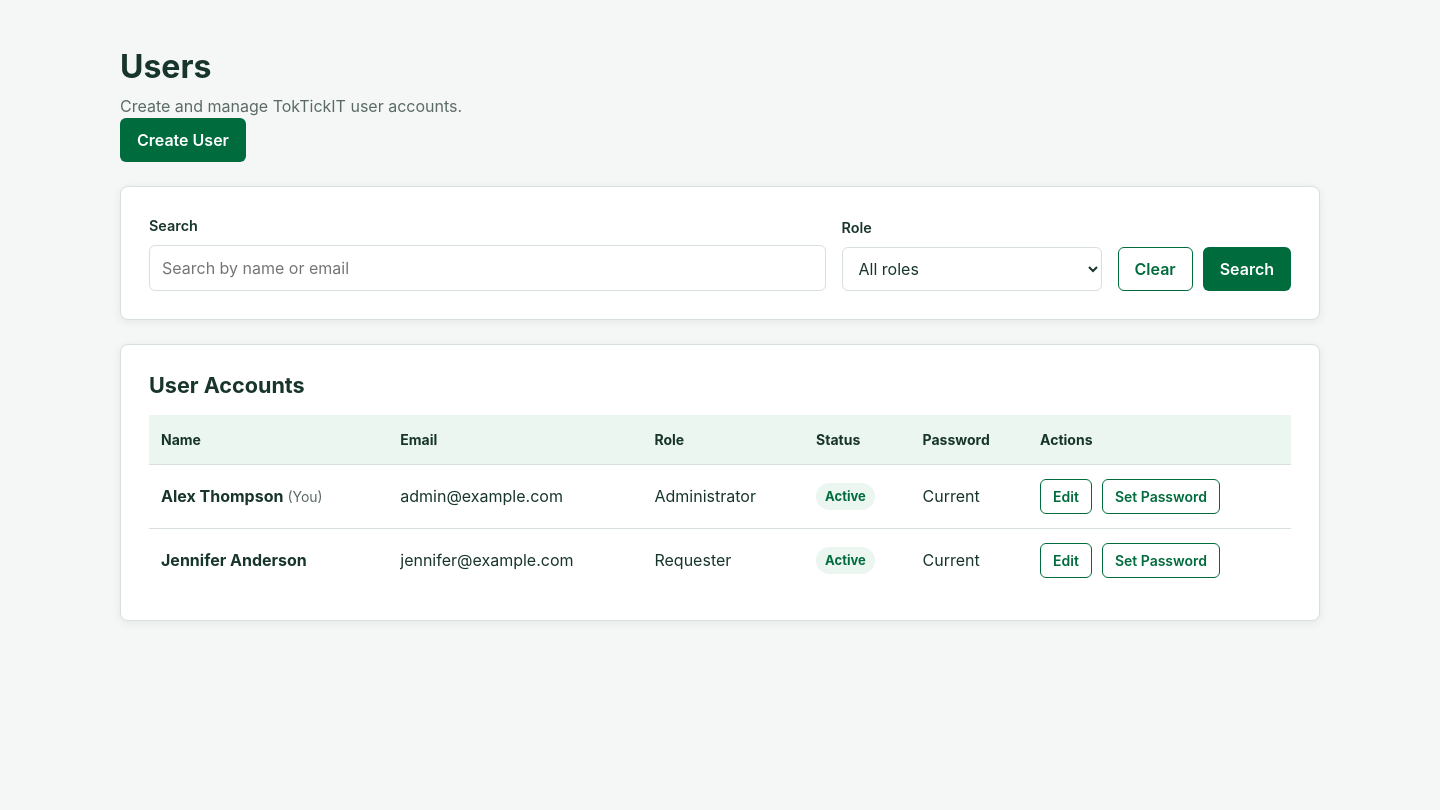
UserManagement › shows safe API error messages
Check: the text "Jennifer Anderson" is shown, box [161,550,307,570]
Click the button "Create User" at coordinates (183, 140), box [120,118,246,162]
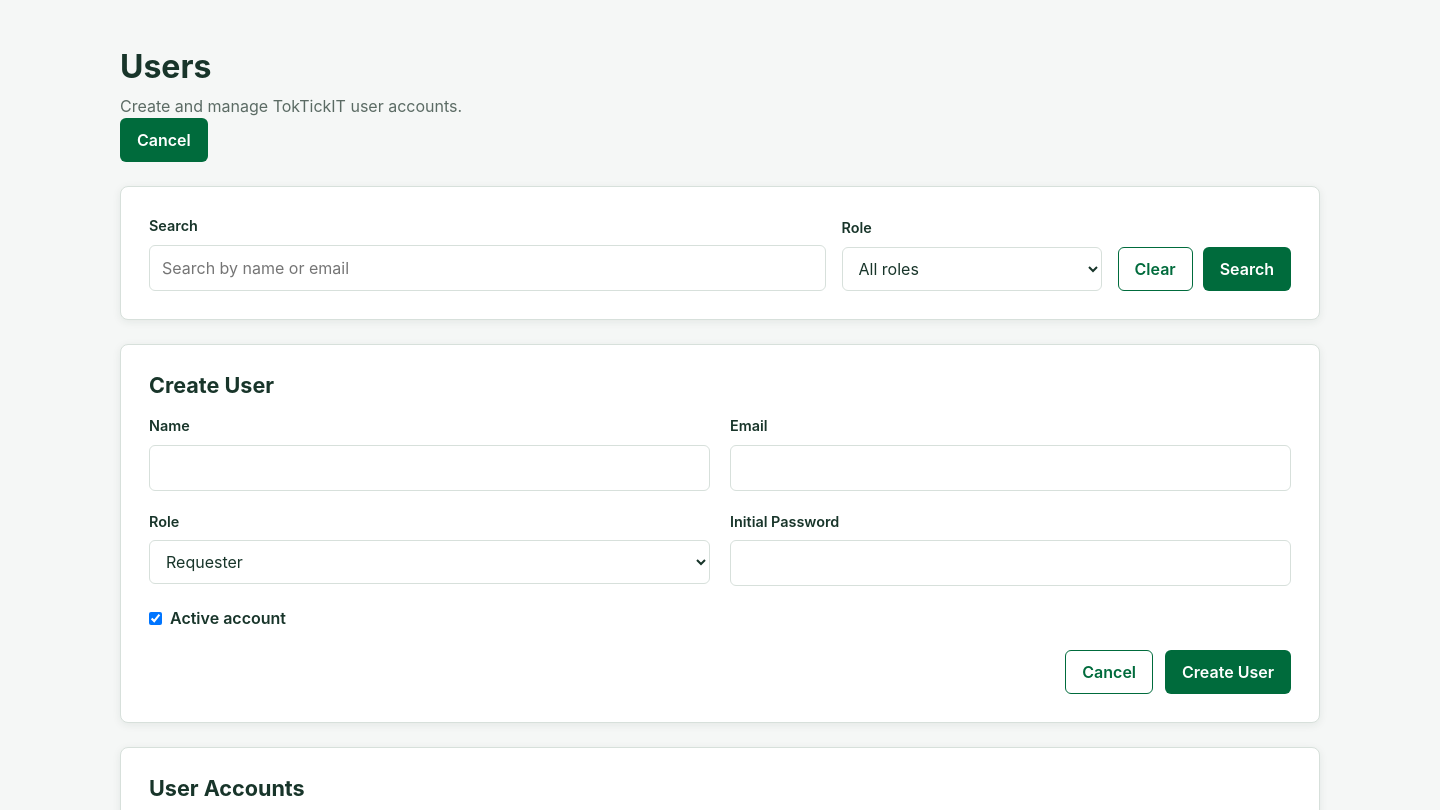
Type "Duplicate User" into the field labelled "Name" at coordinates (430, 468), box [149,444,710,490]
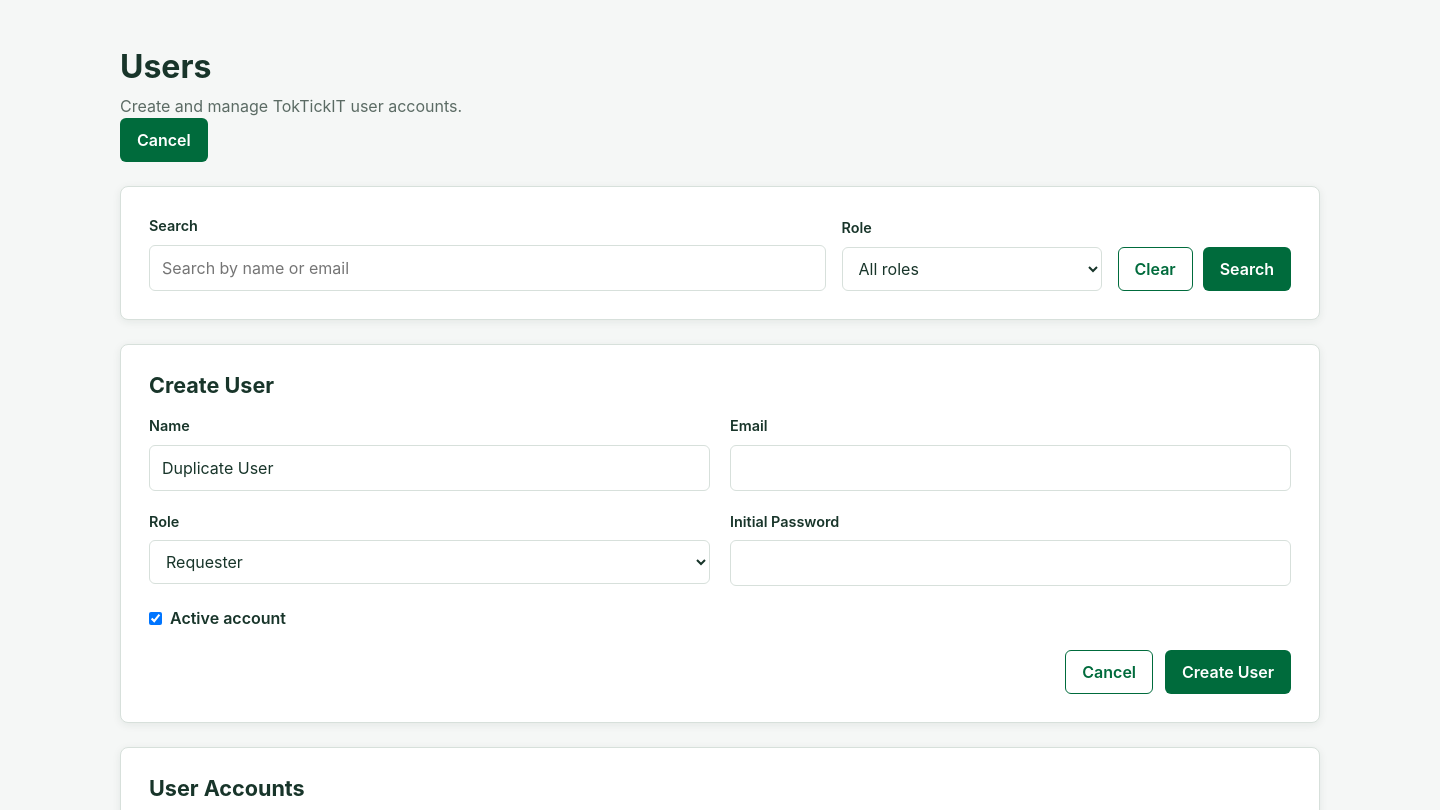
Type "admin@example.com" into the field labelled "Email" at coordinates (1010, 468), box [730,444,1291,490]
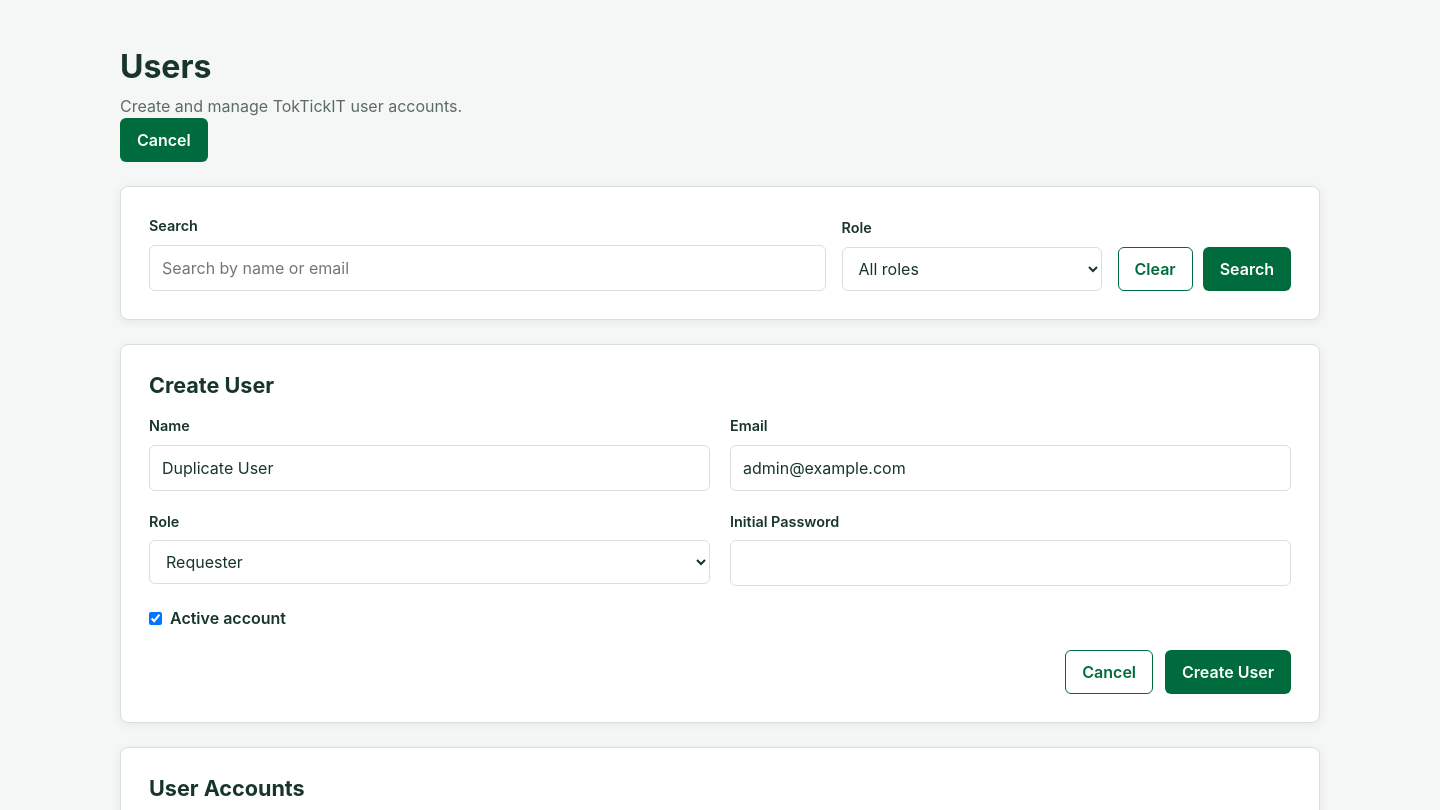
Type "Initial1!" into the password field labelled "Initial Password" at coordinates (1010, 563), box [730,540,1291,586]
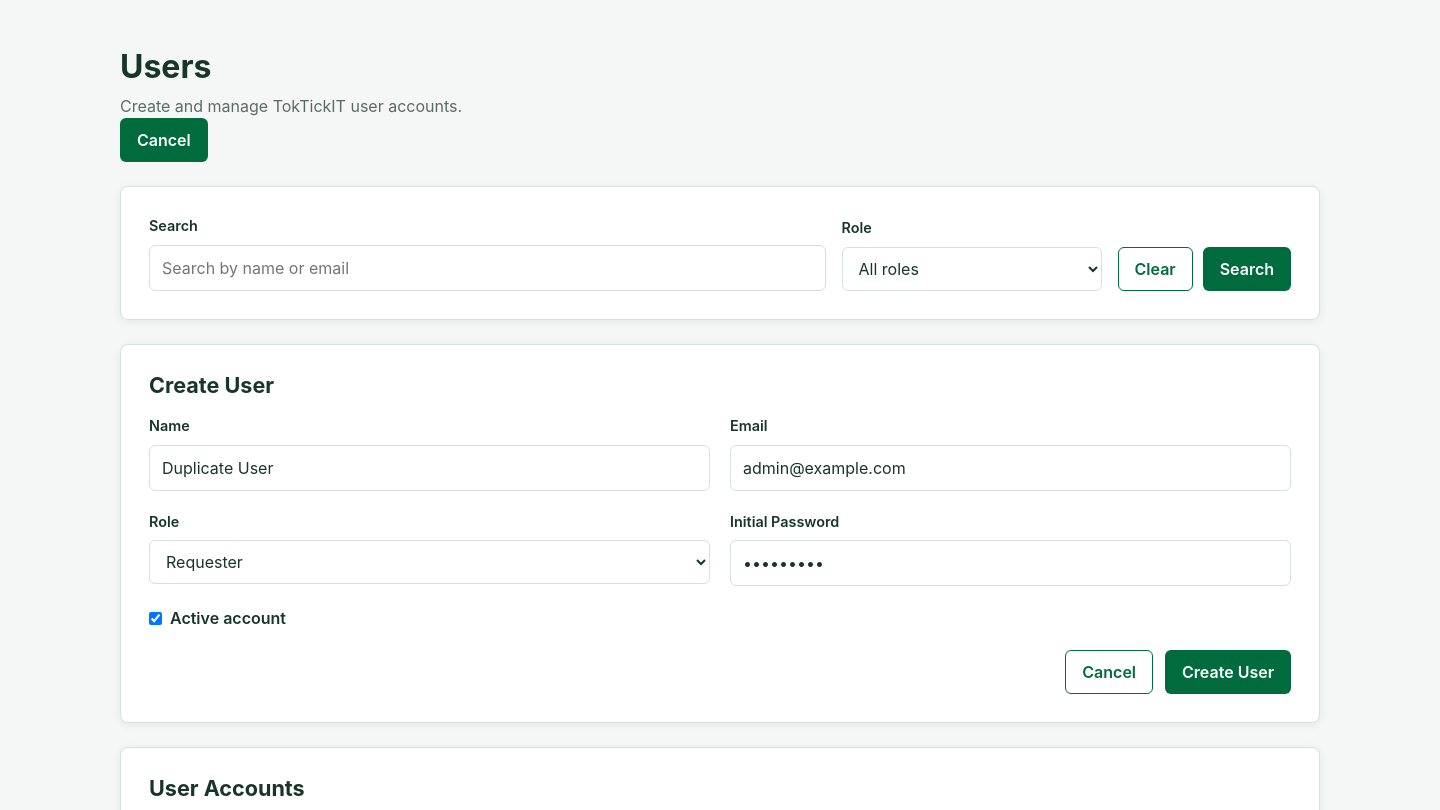
Click the button "Create User" at coordinates (1228, 672), box [1165,650,1291,694]
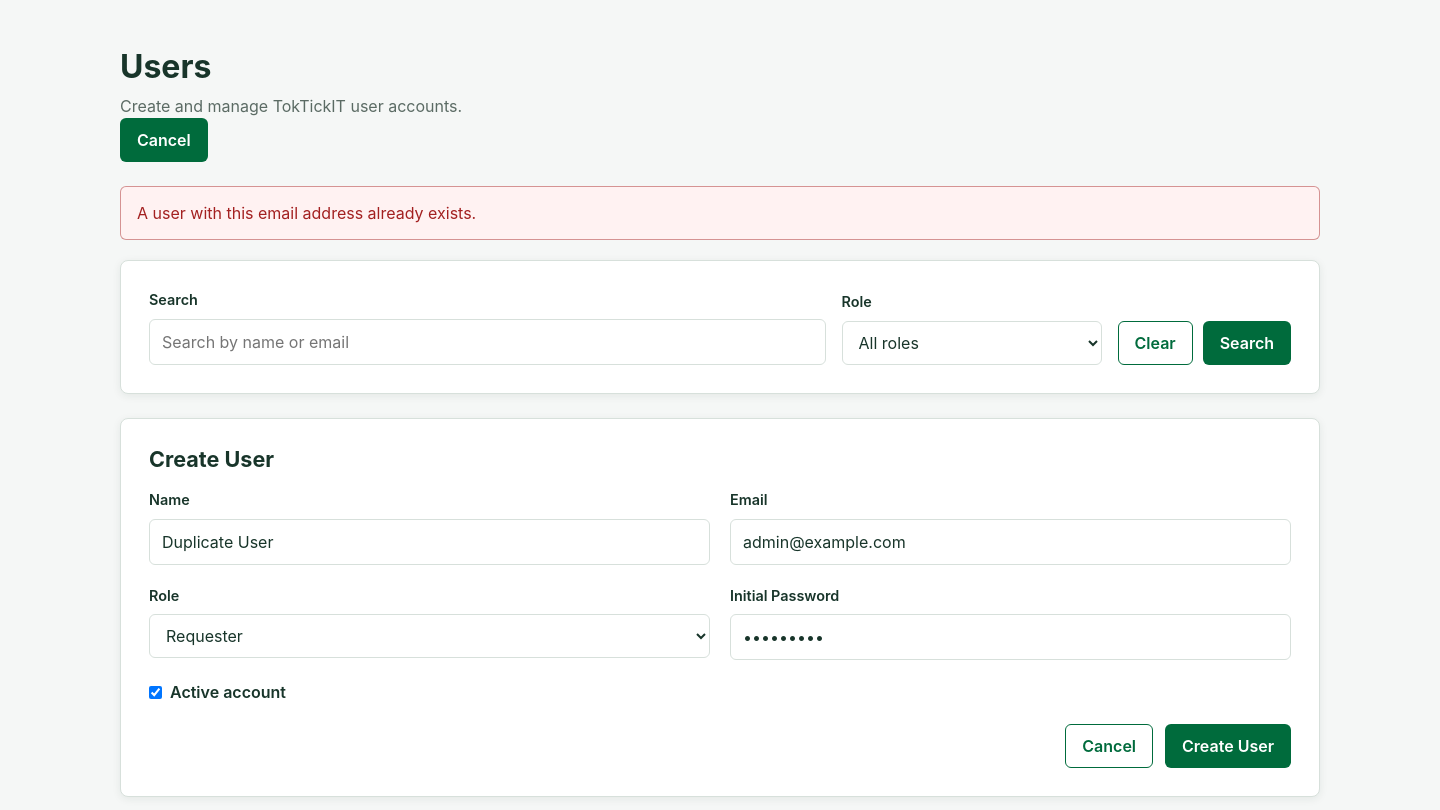
Check: the message reads "A user with this email address already exists.", box [137,203,476,223]
